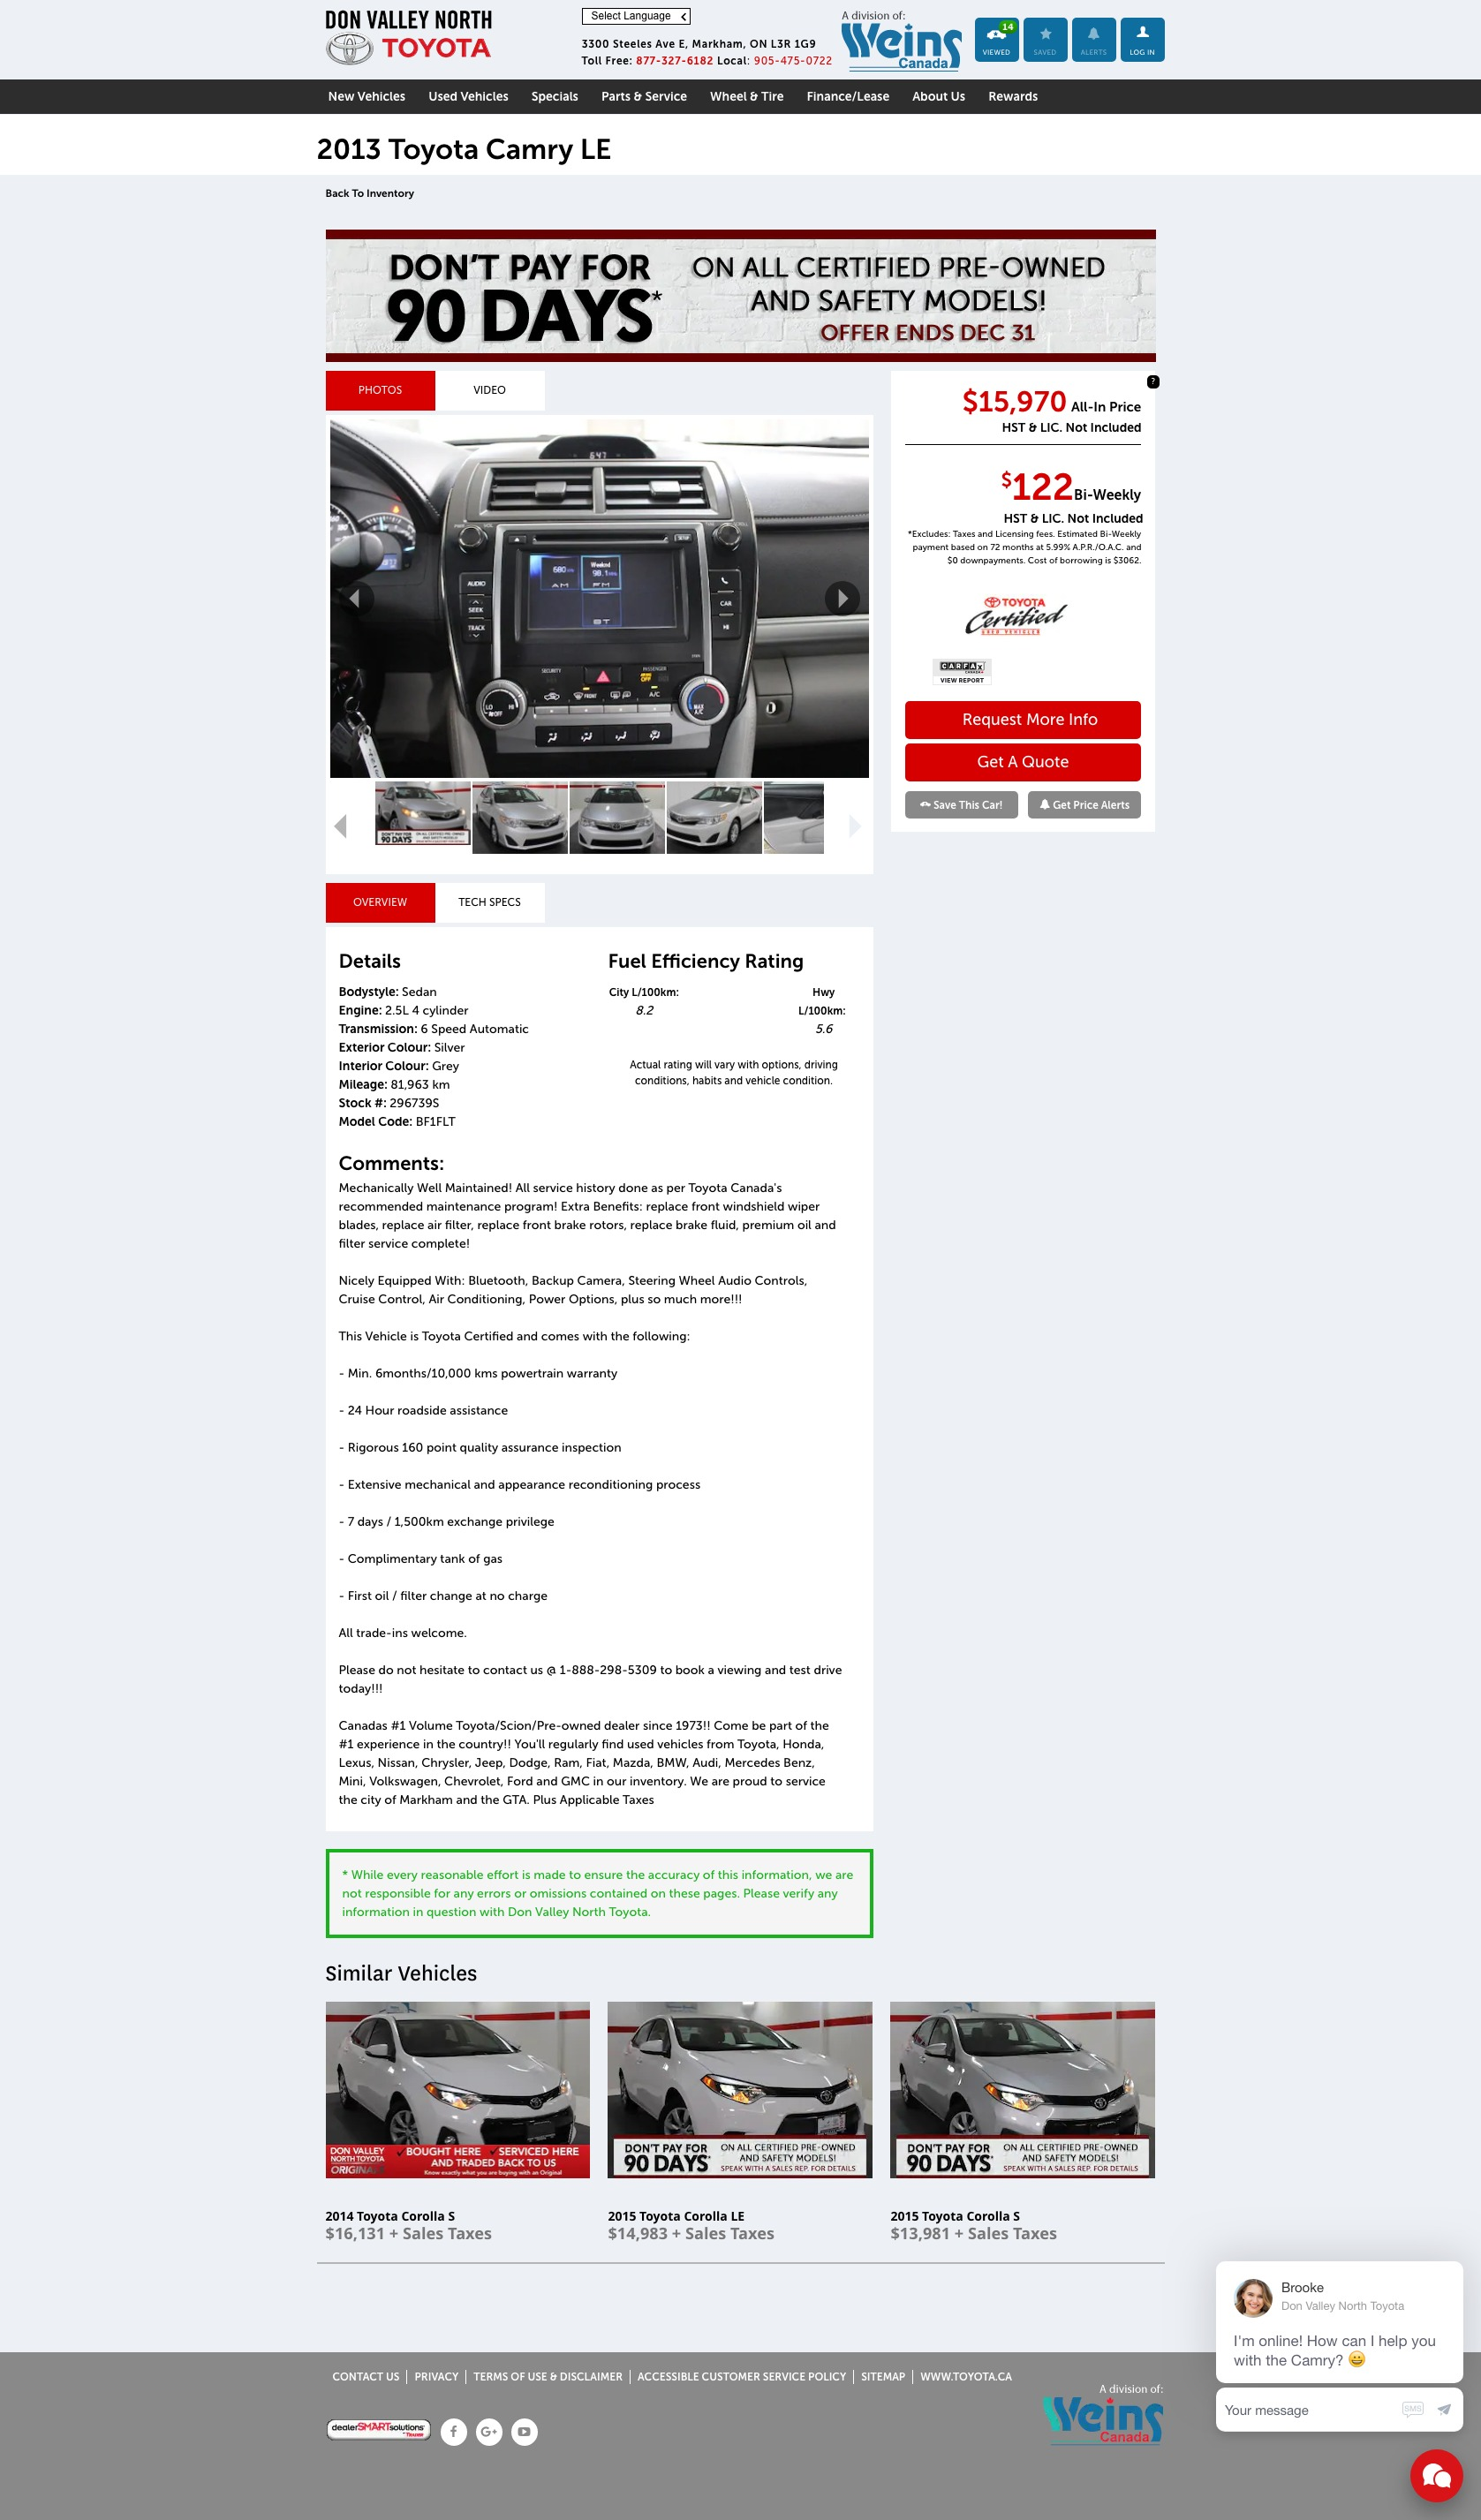car: (848, 812, 862, 839)
